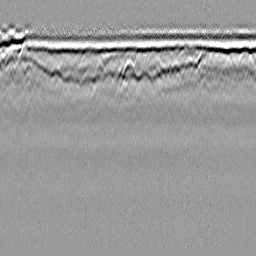cavity: (120, 55, 138, 88)
